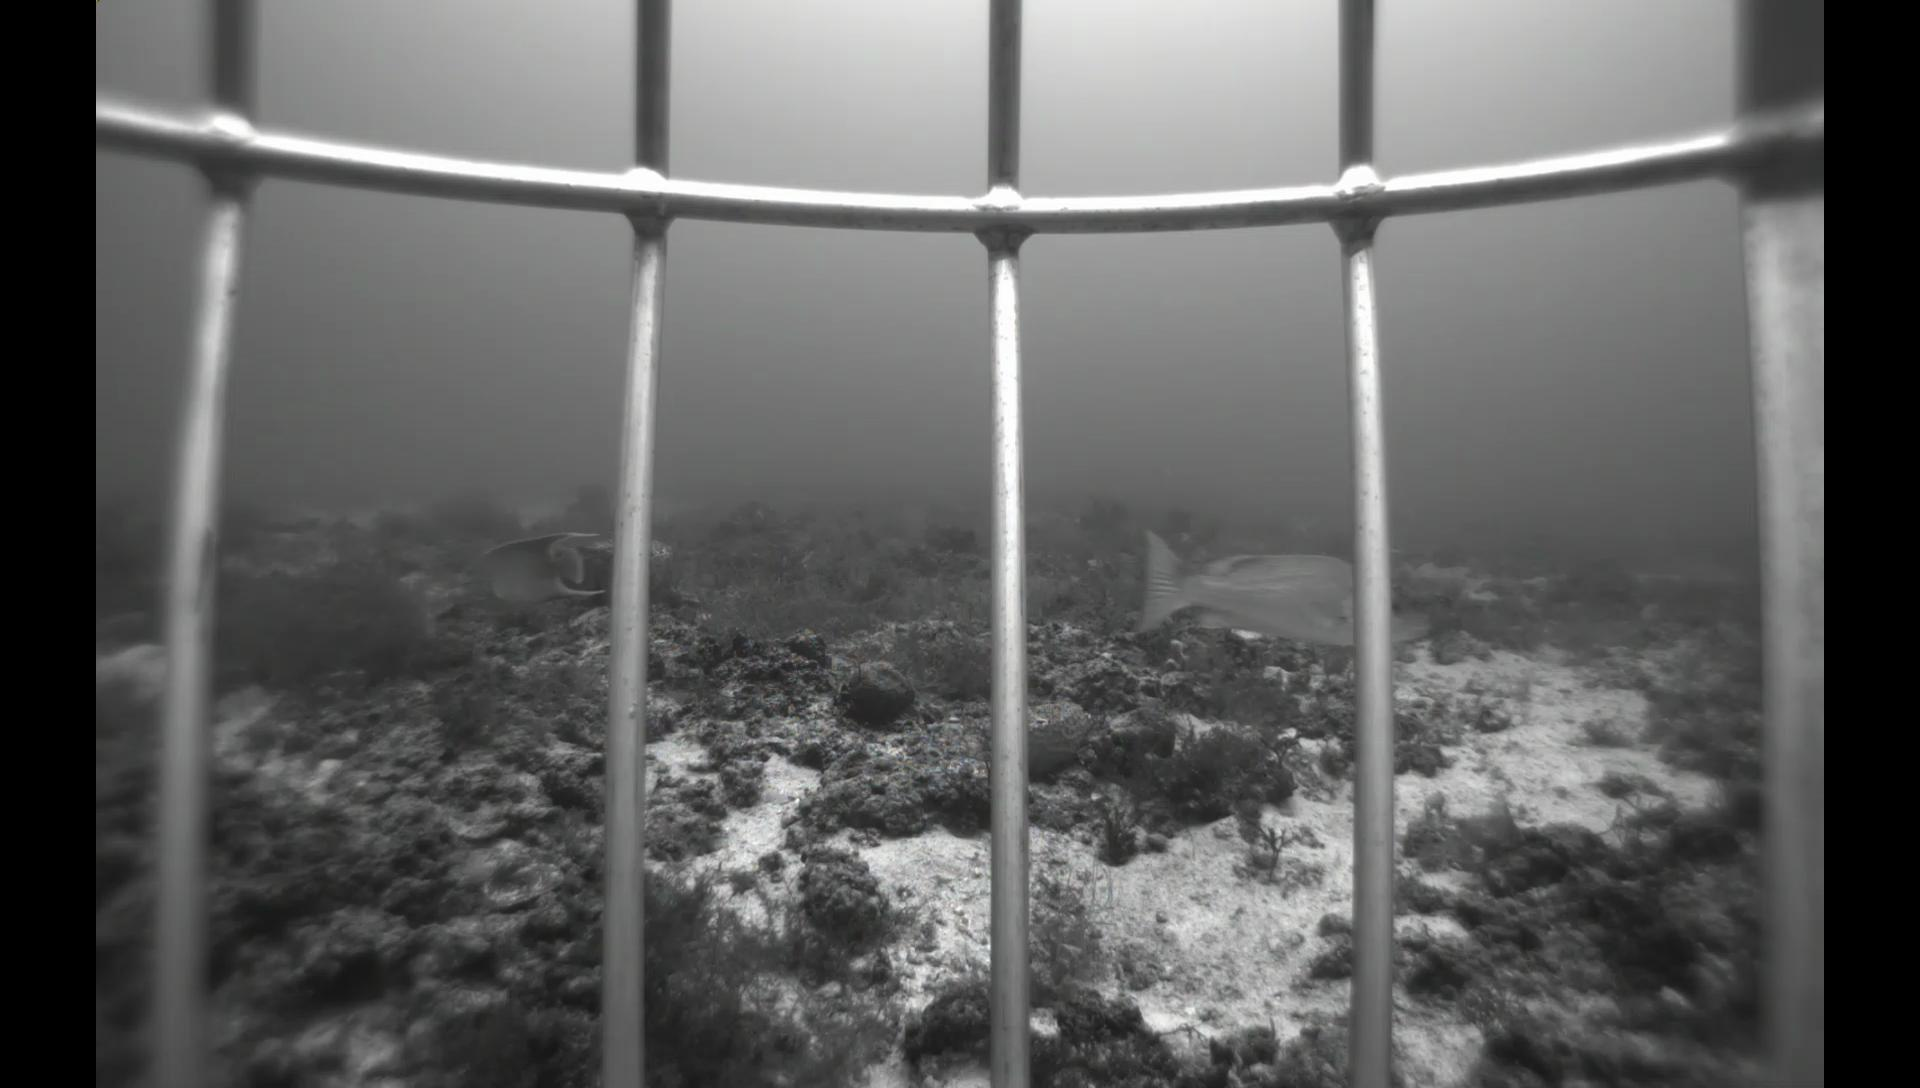HOLACANTHUSBERMUDENSIS-170290102: (443, 529, 611, 615)
LUTJANUSGRISEUS-170151109: (1124, 512, 1443, 657)
MYCTEROPERCAPHENAX-170022105: (848, 516, 891, 557)
